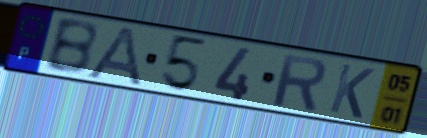4: (210, 43, 253, 104)
5: (157, 33, 212, 93)
A: (81, 23, 144, 88)
B: (42, 17, 100, 77)
K: (326, 61, 377, 121)
R: (270, 51, 329, 114)
